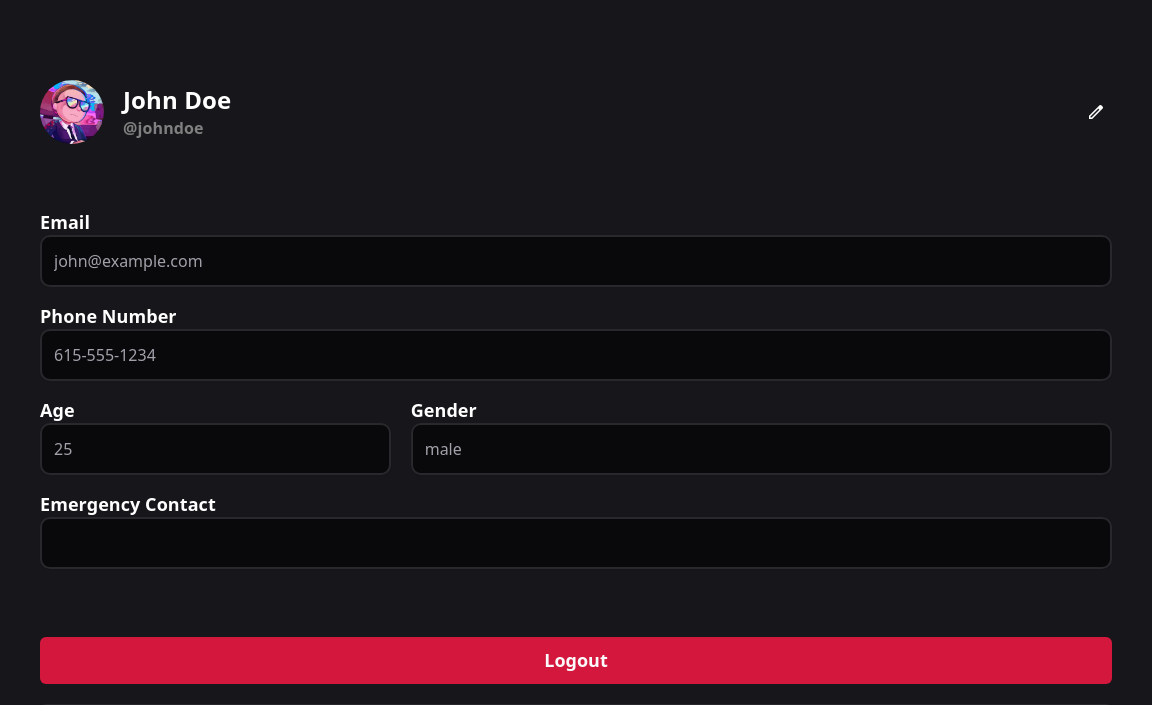
Scenario: ProfileScreen › Edit Mode › enables inputs in edit mode
Expected: the field showing "615" below "Phone Number" is disabled, left=40, top=329, right=1112, bottom=381
Click the button "edit".
click(1096, 112)  # box left=1080, top=96, right=1112, bottom=128
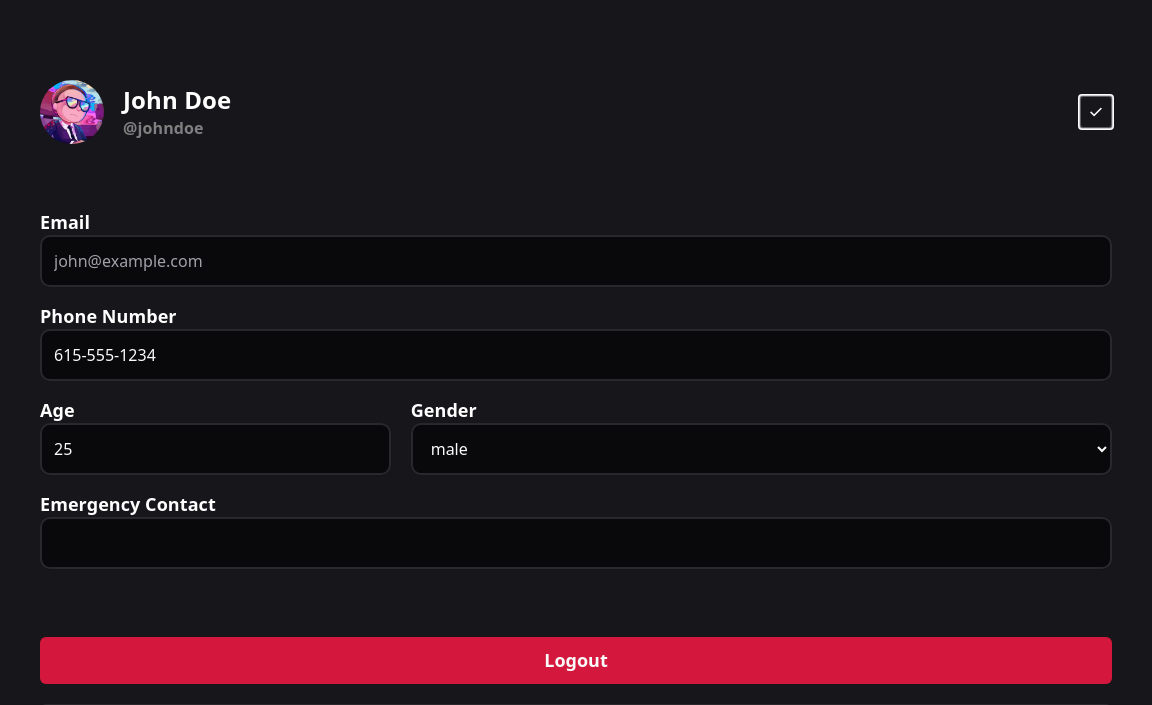
Expected: the field showing "615" below "Phone Number" is enabled, left=40, top=329, right=1112, bottom=381
